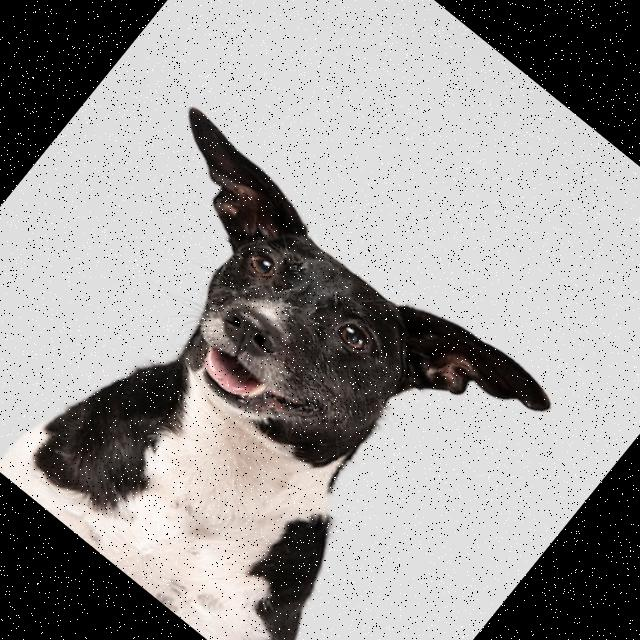Dog: (0, 101, 559, 640)
